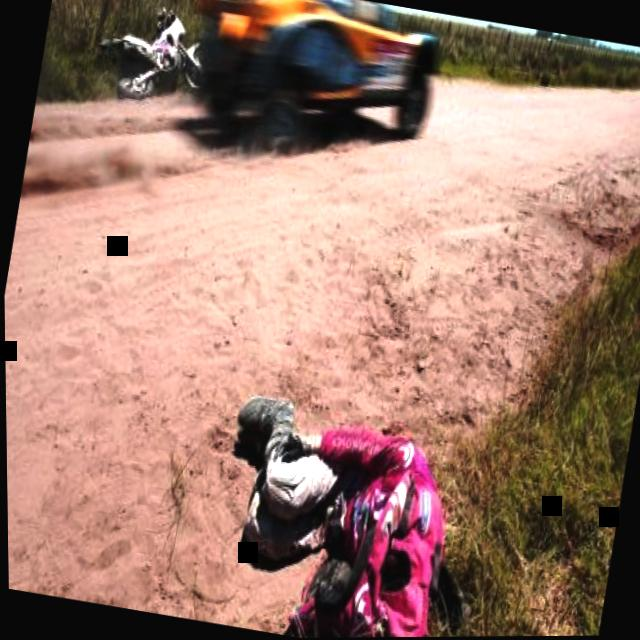Fall-Detected: (189, 370, 486, 639)
